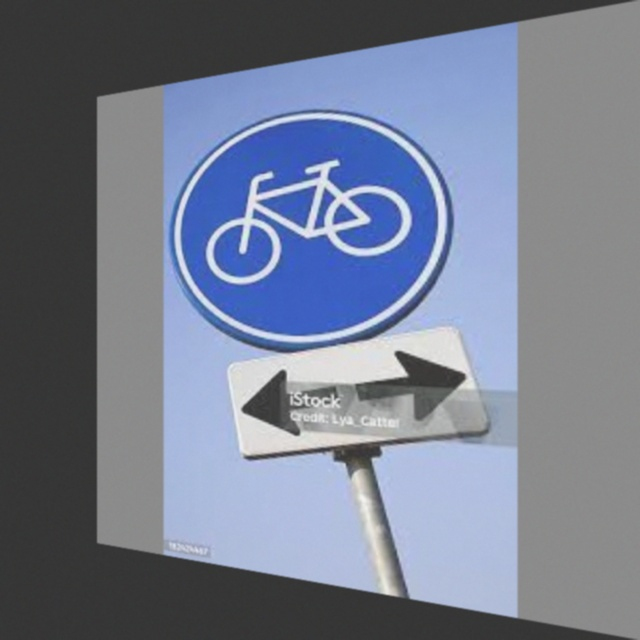Compulsory_Cycle_Track: (174, 88, 458, 321)
